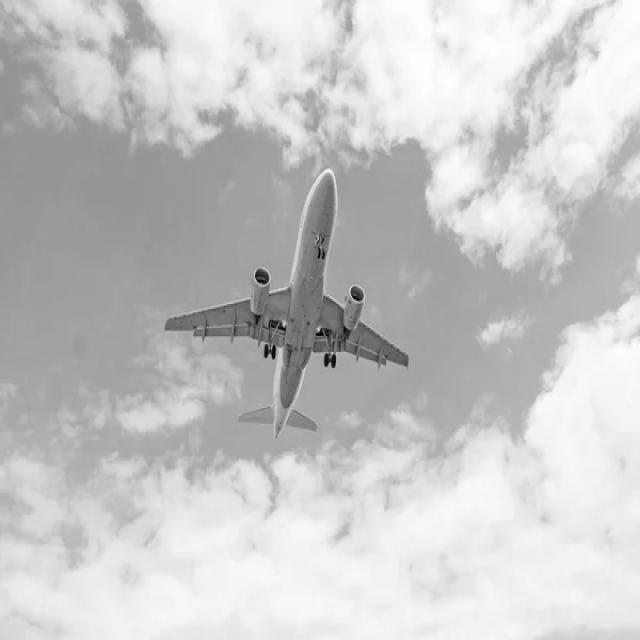Aircraft: (164, 157, 410, 438)
